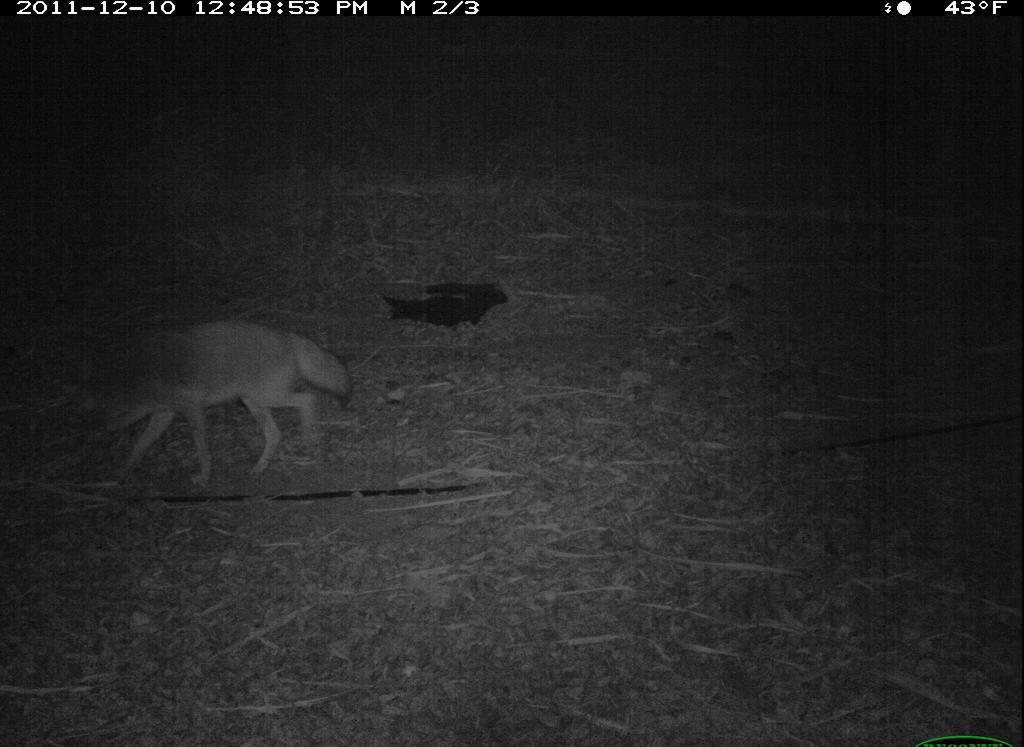coyote: (72, 314, 360, 493)
